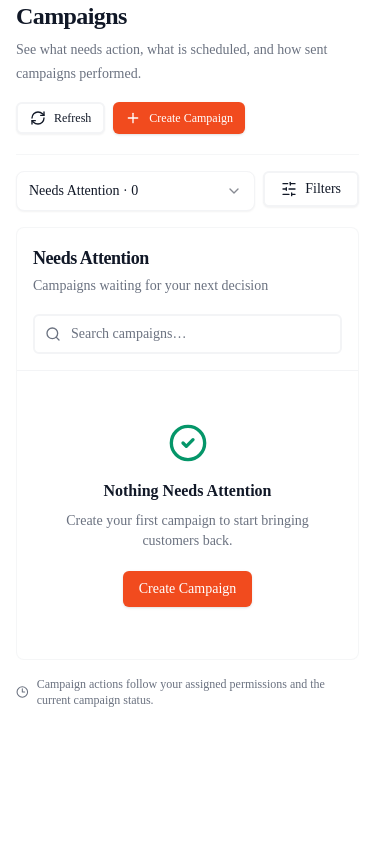
Scenario: CampaignListClient workflow navigation › opens channel, goal, and sort filters together on mobile
Expected: the field with placeholder "Search campaigns…" is shown, [33,314,342,354]
Click the button "Filters" at (311, 189), box [263,171,359,207]
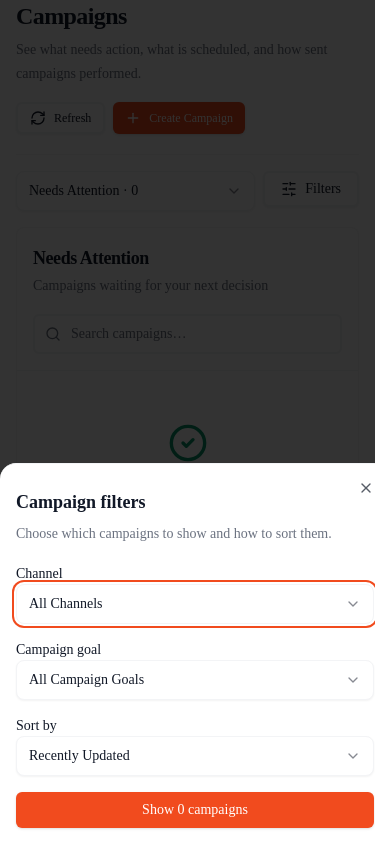
Expected: the dialog "Campaign filters" is shown, [0,463,389,843]
Expected: the dropdown named "Filter by channel" is shown, [16,584,374,624]
Expected: the dropdown named "Filter by campaign goal" is shown, [16,660,374,700]
